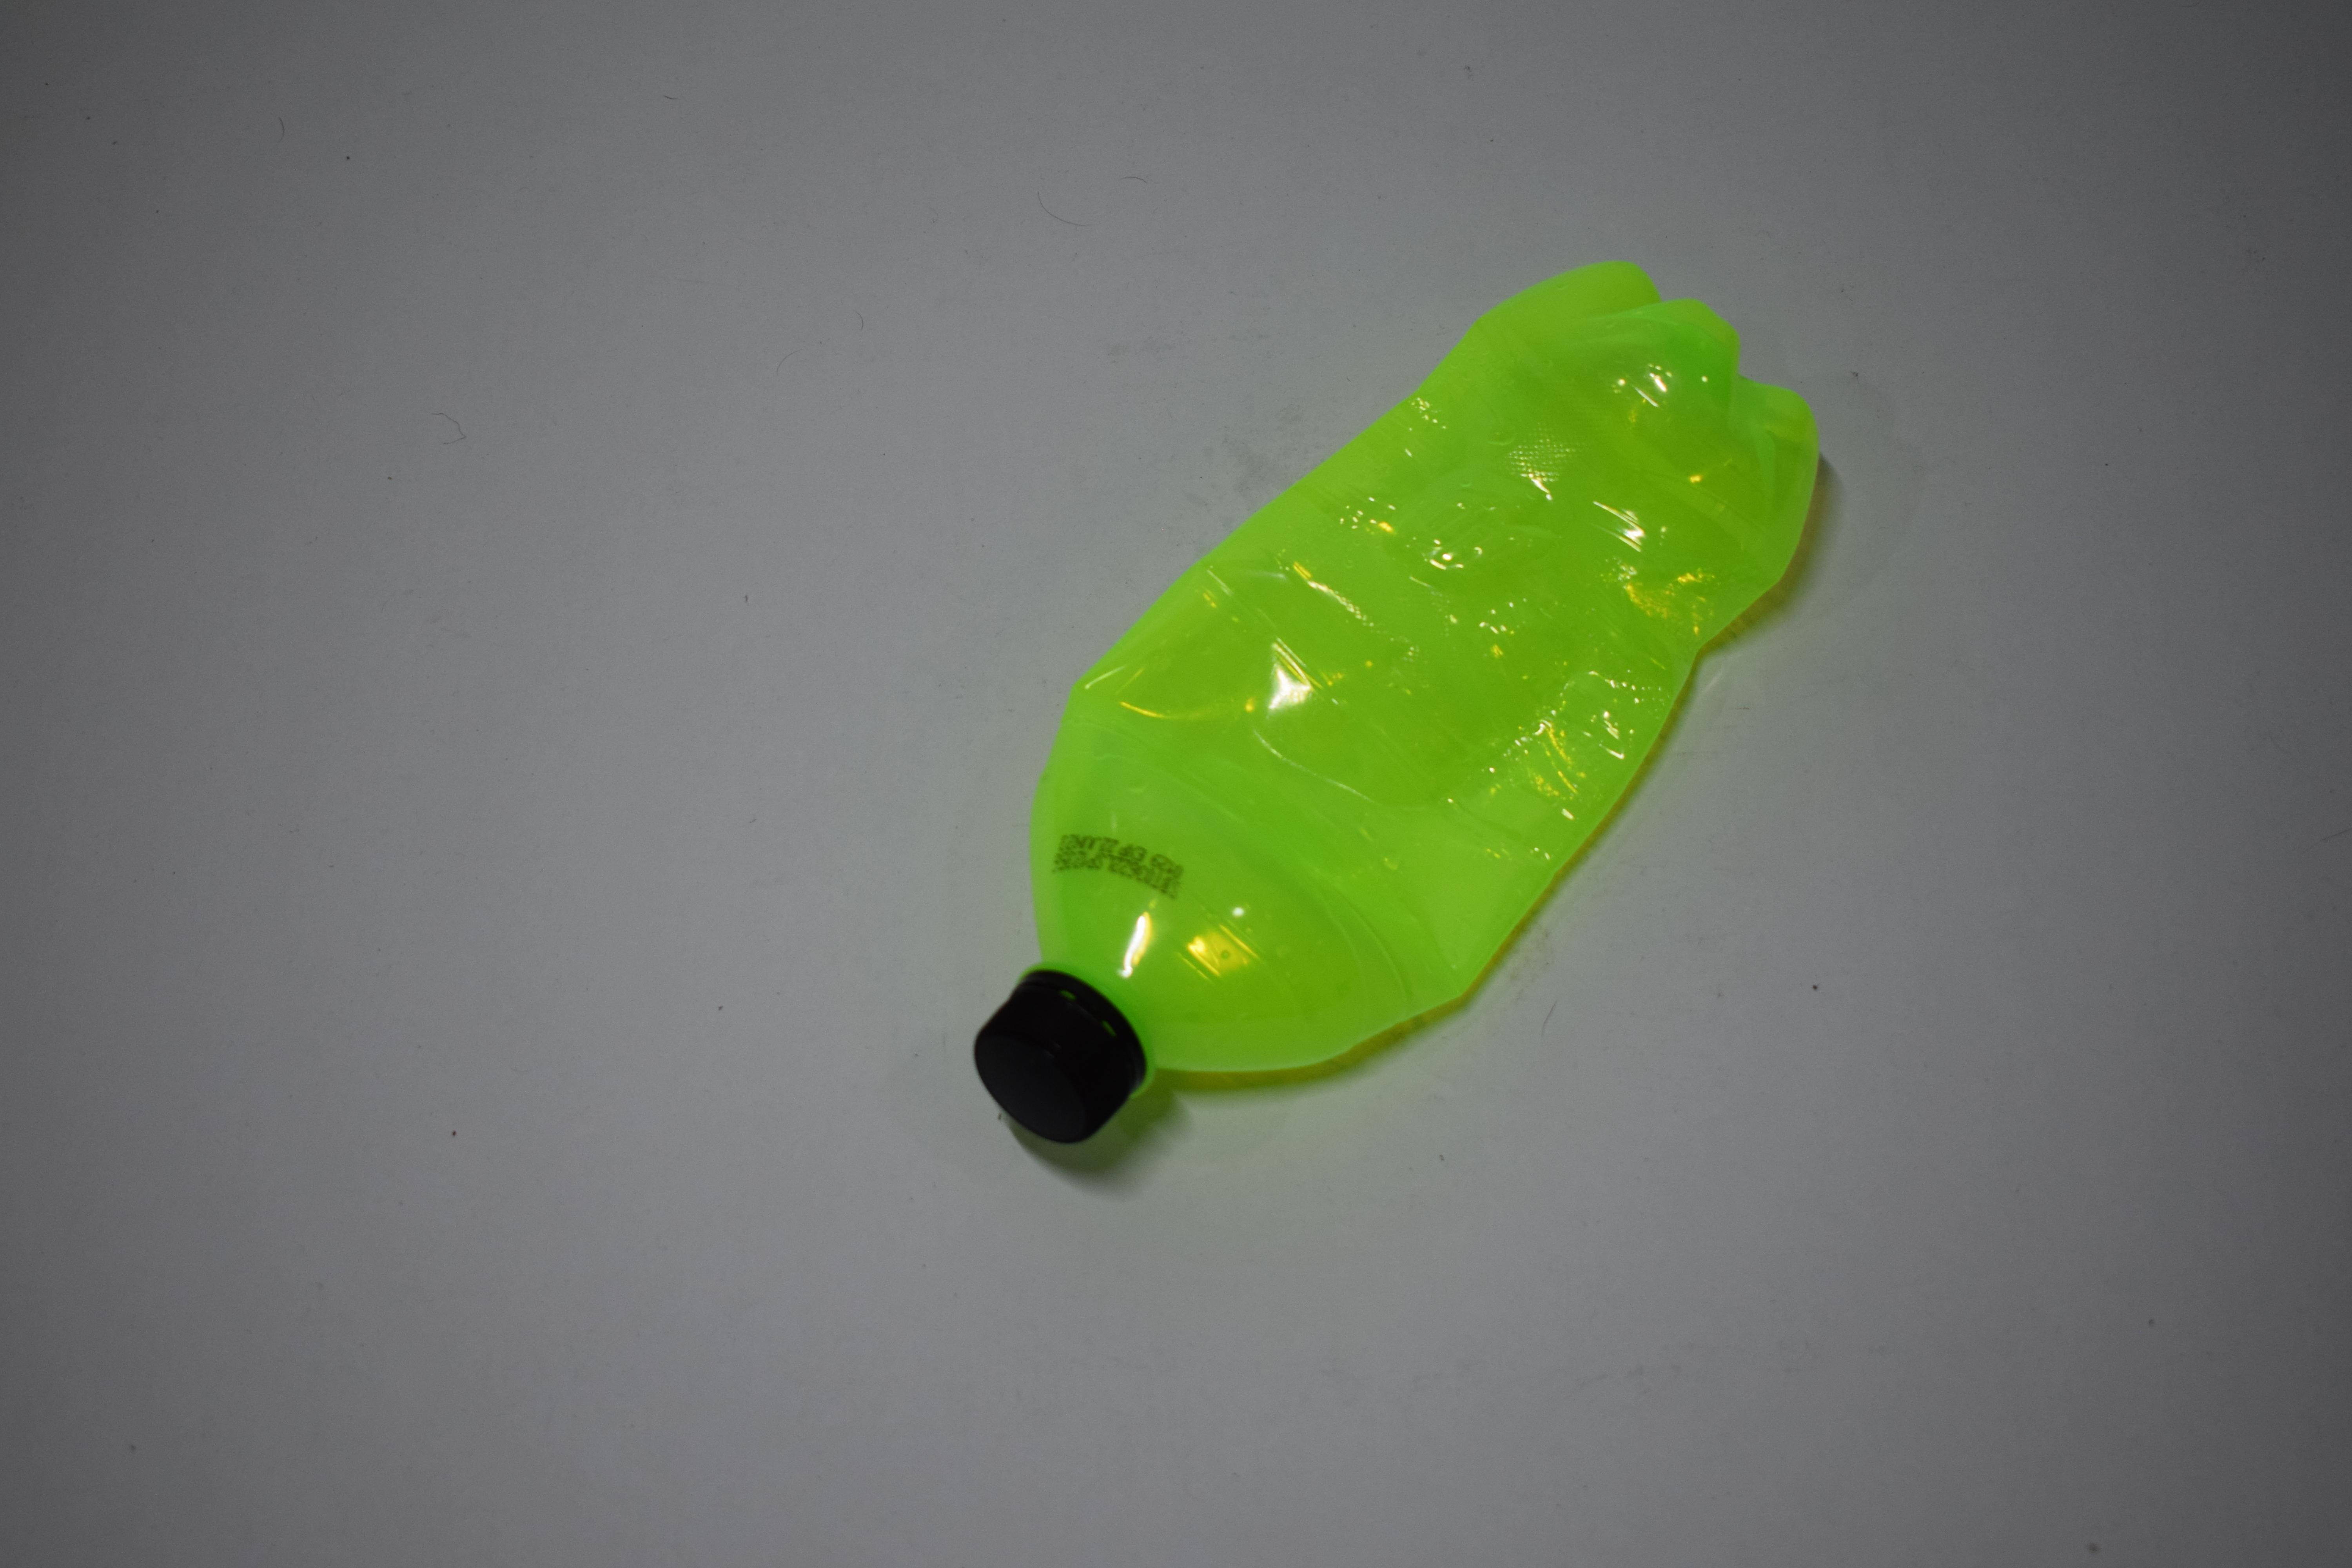bottle: (0, 639, 644, 759)
